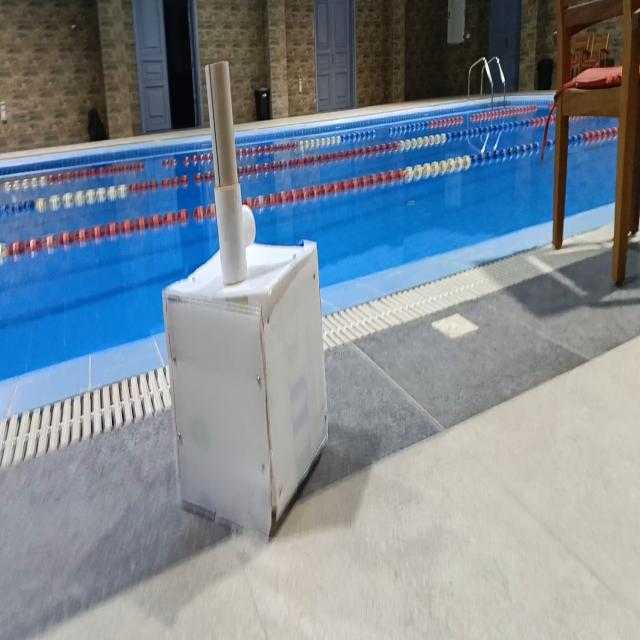Cube: (161, 238, 329, 539)
